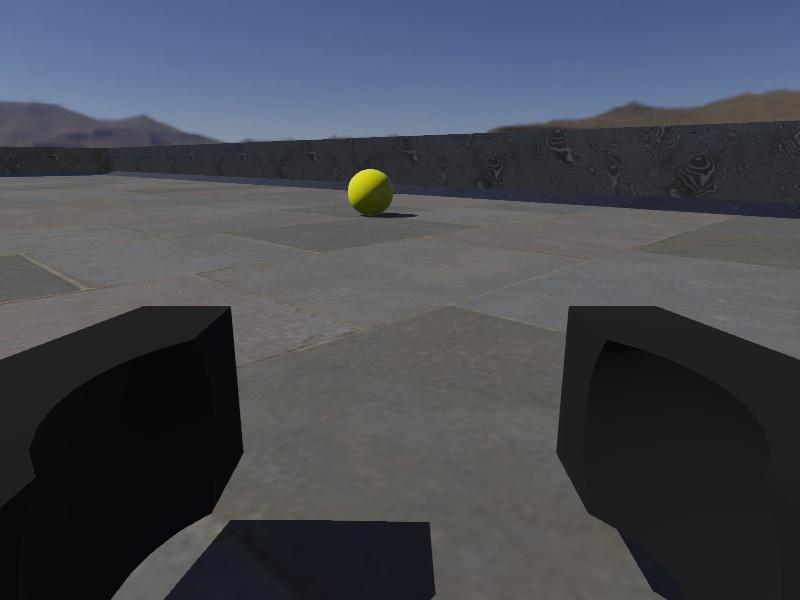yellow ball: (347, 168, 395, 217)
